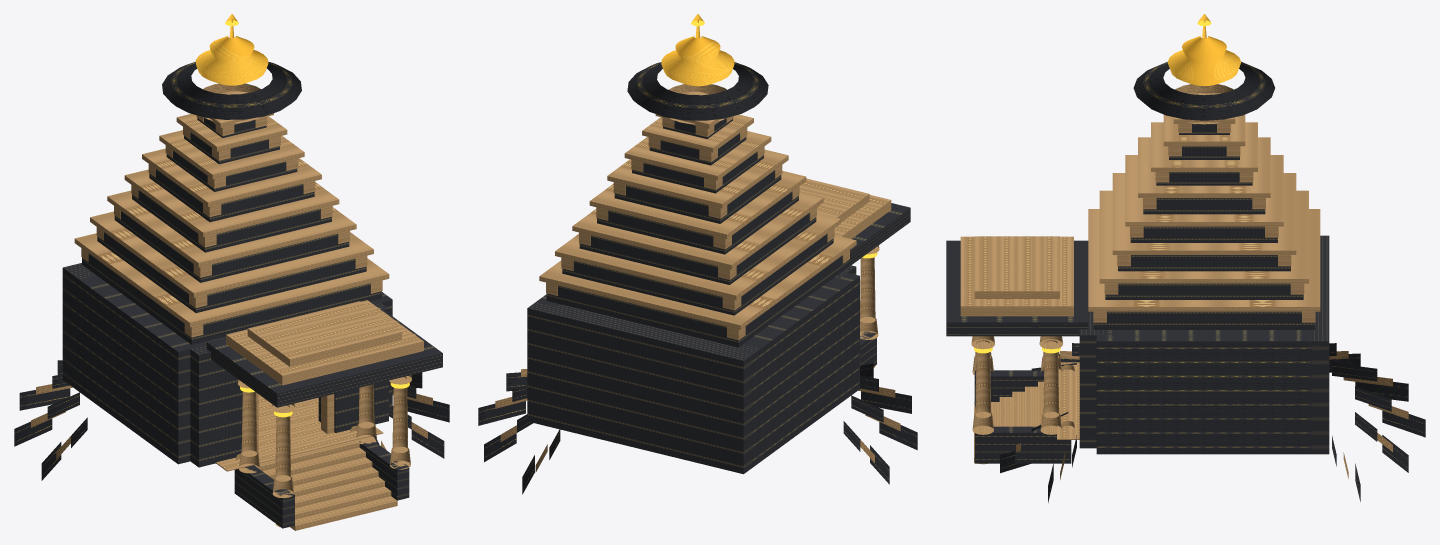
Rendered from temple_shikhara.glb.
3 renders of one model, left to right at view 1: azimuth 30°, elevation 25°; view 2: azimuth 150°, elevation 25°; view 3: azimuth 270°, elevation 25°, orthographic.
Visible parts, largest first — view 1: Node_TempleShikhara; view 2: Node_TempleShikhara; view 3: Node_TempleShikhara.
Part boxes in pixels (left/top/right/bottom): Node_TempleShikhara: left=14, top=14, right=449, bottom=530; Node_TempleShikhara: left=478, top=14, right=917, bottom=494; Node_TempleShikhara: left=946, top=14, right=1425, bottom=502.
Size of the model in its own units: 15.6 by 16.48 by 16.9.
Materials: 3 (3 with a texture image).
